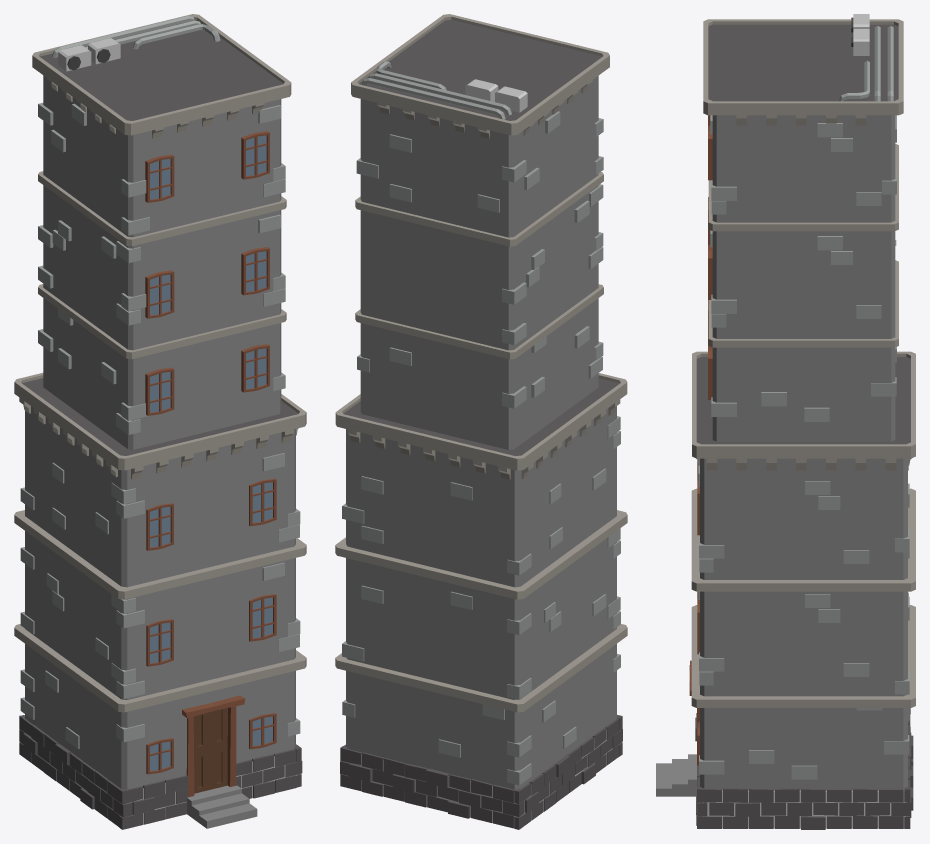
The model's file is six-story-stack.glb.
The picture shows the model from 3 angles, left to right: view 1: azimuth 30°, elevation 25°; view 2: azimuth 150°, elevation 25°; view 3: azimuth 270°, elevation 25°; orthographic projection. The views are drawn at different scales.
Visible parts, largest first — view 1: 6Story_Stack_Cube.137; view 2: 6Story_Stack_Cube.137; view 3: 6Story_Stack_Cube.137.
Part boxes in pixels (box(x1,y1,x2,y2)): 6Story_Stack_Cube.137: box(14, 14, 306, 829); 6Story_Stack_Cube.137: box(335, 14, 627, 829); 6Story_Stack_Cube.137: box(656, 14, 915, 829).
Bounding box in the file's own units: 2.16 × 7.8 × 2.5.
Materials: 1 (1 with a texture image).
